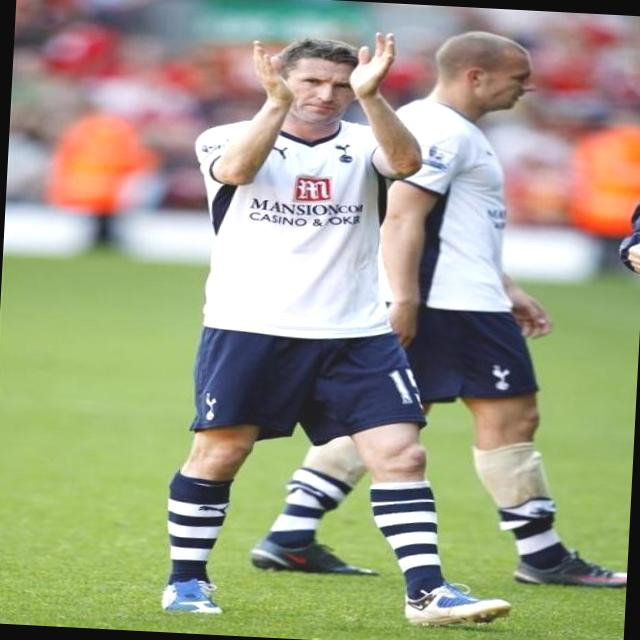no_vest: (184, 102, 415, 352), (410, 85, 530, 320)
